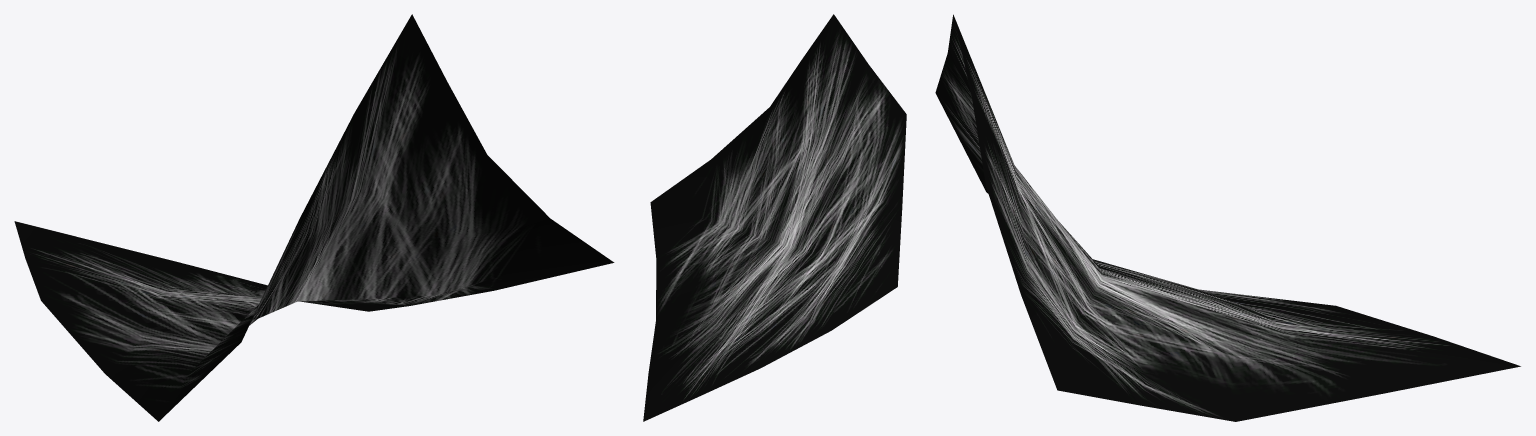
The model's file is SWORDLIGHT20_PS-AREA01_CORNERWEB19.fbx.
The picture shows the model from 3 angles, left to right: view 1: azimuth 30°, elevation 25°; view 2: azimuth 150°, elevation 25°; view 3: azimuth 270°, elevation 25°; orthographic projection. The views are drawn at different scales.
Parts seen in each view (by area): view 1: SWORDLIGHT20_PS-AREA01_CORNERWEB19; view 2: SWORDLIGHT20_PS-AREA01_CORNERWEB19; view 3: SWORDLIGHT20_PS-AREA01_CORNERWEB19.
Boxes of the visible parts, x1,y1,x2,y2 form: SWORDLIGHT20_PS-AREA01_CORNERWEB19: (14, 14, 614, 421); SWORDLIGHT20_PS-AREA01_CORNERWEB19: (643, 14, 906, 421); SWORDLIGHT20_PS-AREA01_CORNERWEB19: (935, 14, 1520, 421).
Size of the model in its own units: 54127 by 53902 by 79415.
1 material, 1 textured.
